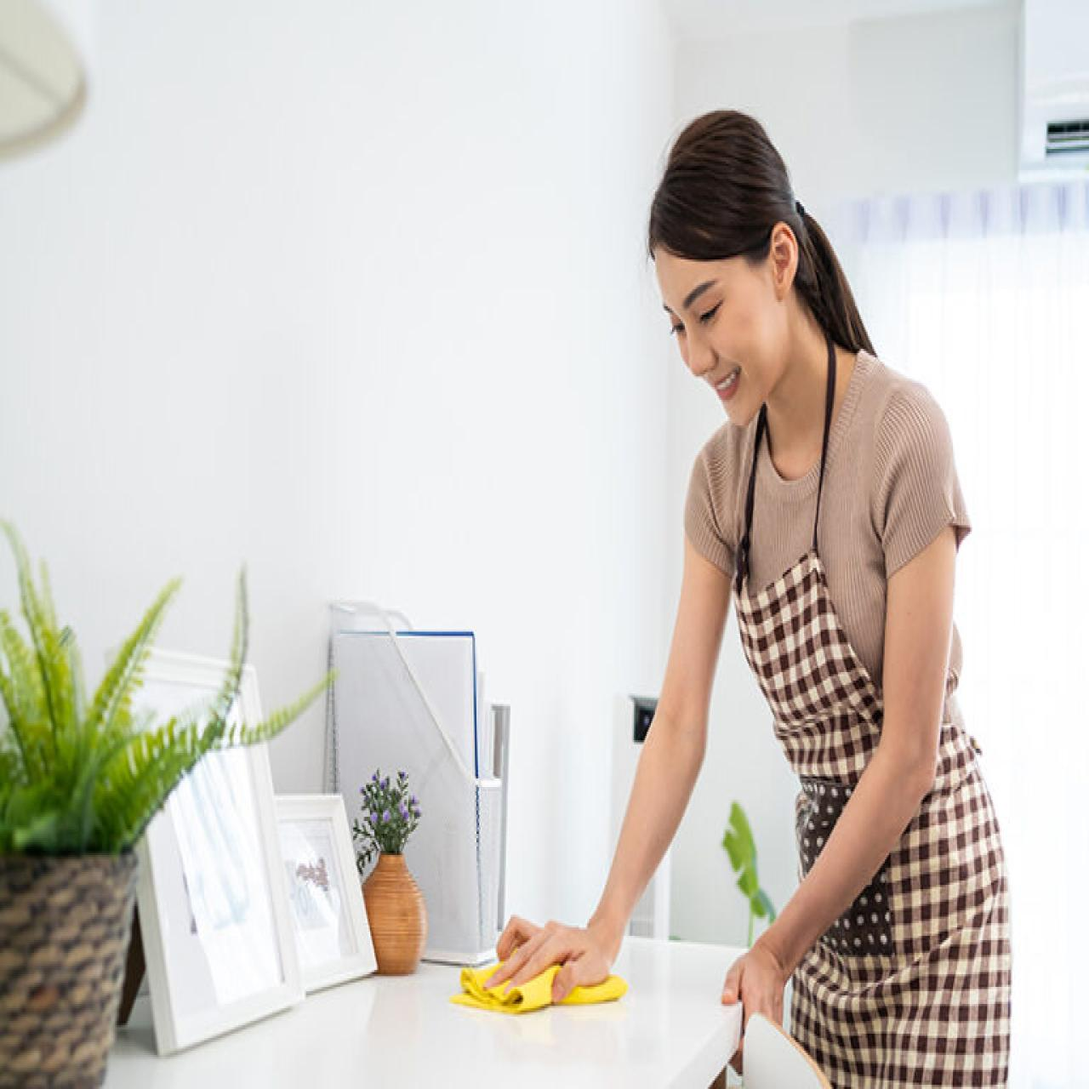NO_Safety_Vest: (683, 378, 963, 781)
Person: (533, 81, 1019, 1089)
